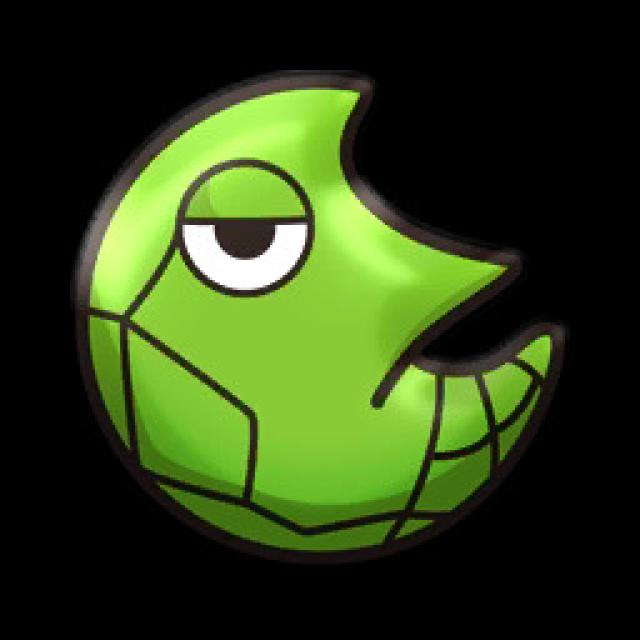Metapod: (72, 78, 568, 562)
